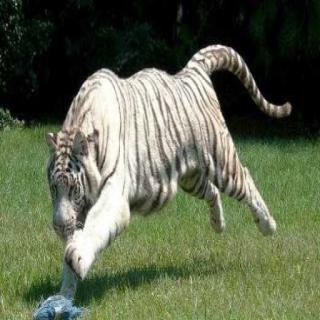Tiger: (28, 39, 308, 270)
